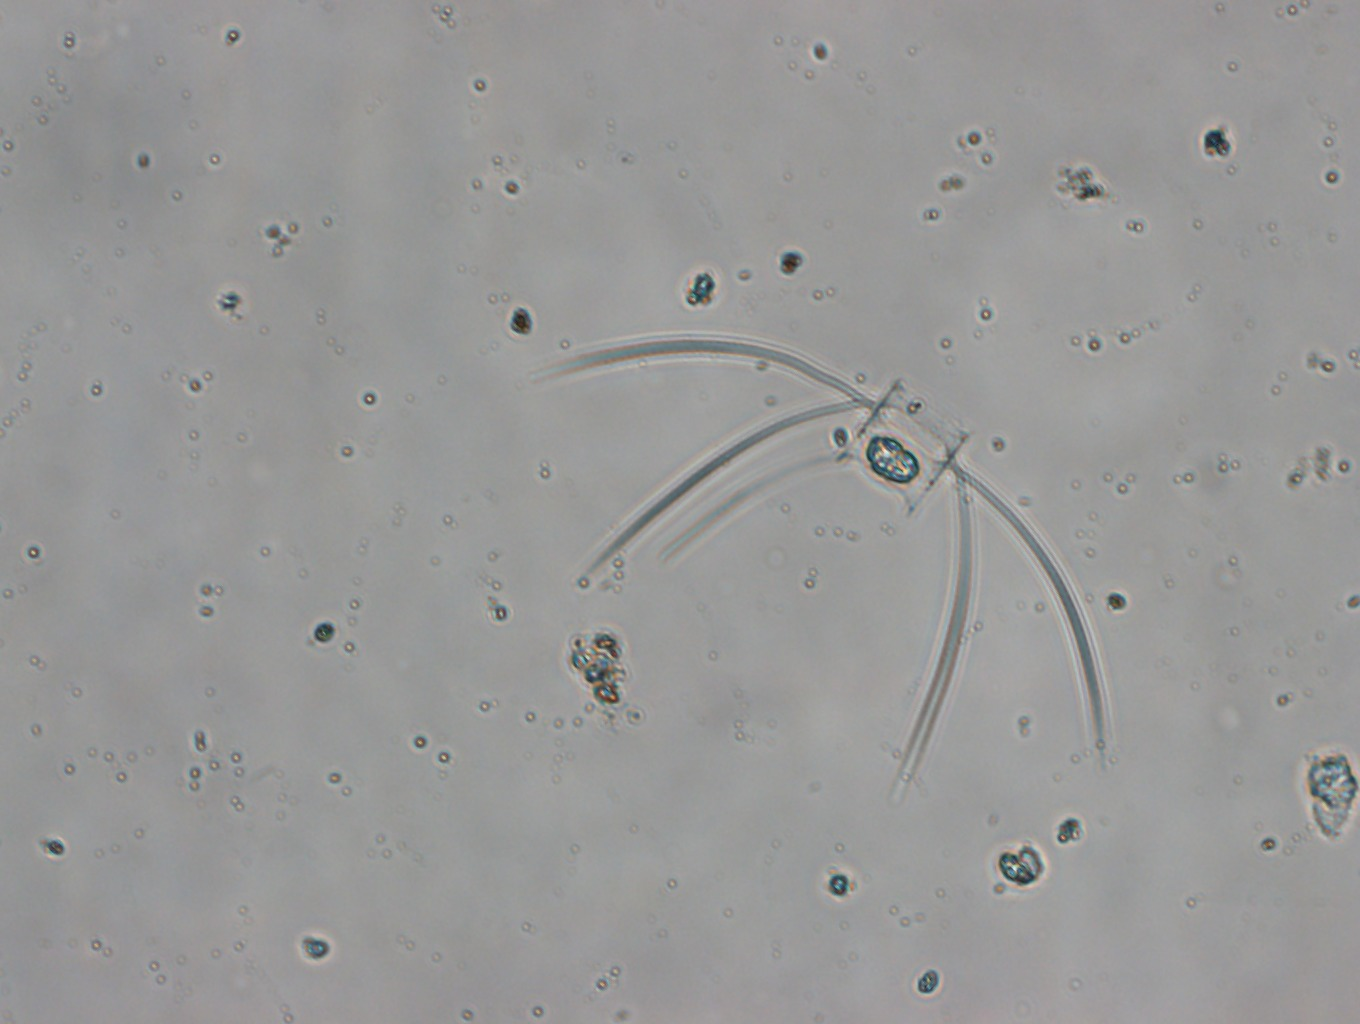chaetoceros: (536, 333, 1110, 830)
